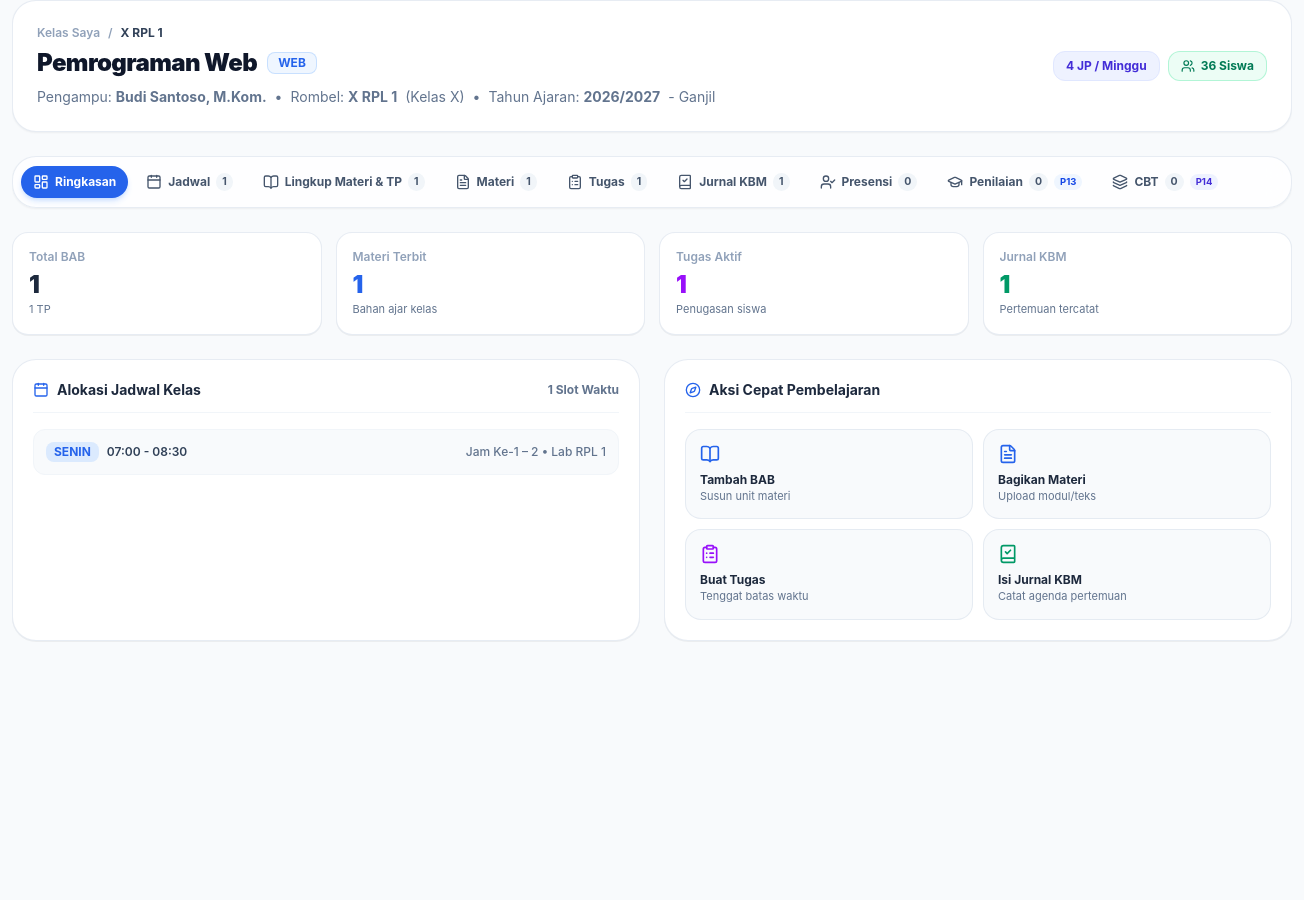
Test: M11 Learning Presentation Views › ClassWorkspaceView (/kelas-saya/[id]) › switches to Penilaian tab and renders ClassAssessmentTabView (M13)
What coordinates should you click on to do the following:
click the button "Penilaian 0 P13"
I would click on:
 (1015, 182)
Its box is top-left (935, 165), bottom-right (1094, 199).
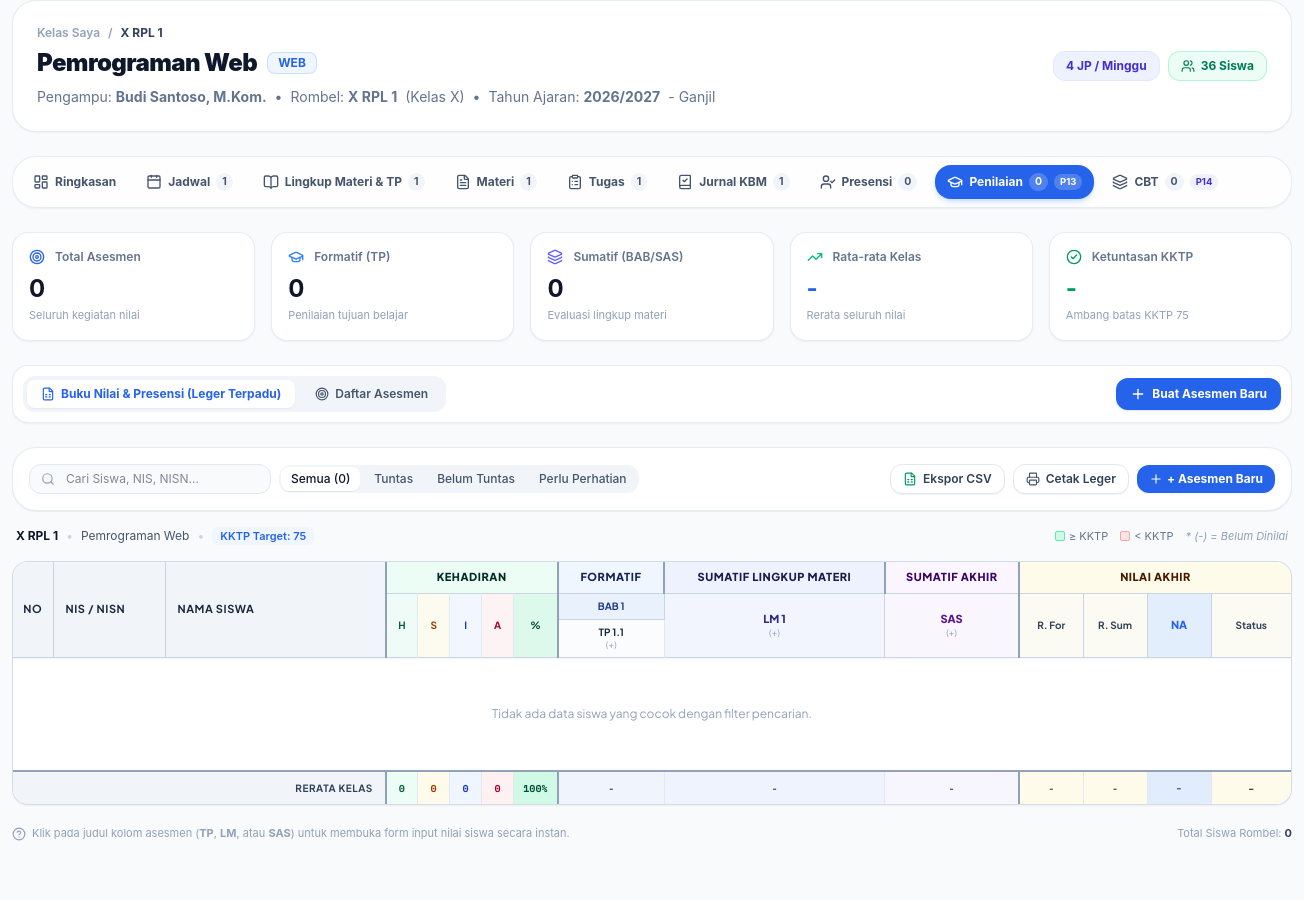
Now the text "Total Asesmen" is shown, box top-left (29, 249), bottom-right (141, 265)
Now the button "Daftar Asesmen" is shown, box top-left (301, 380), bottom-right (442, 408)
